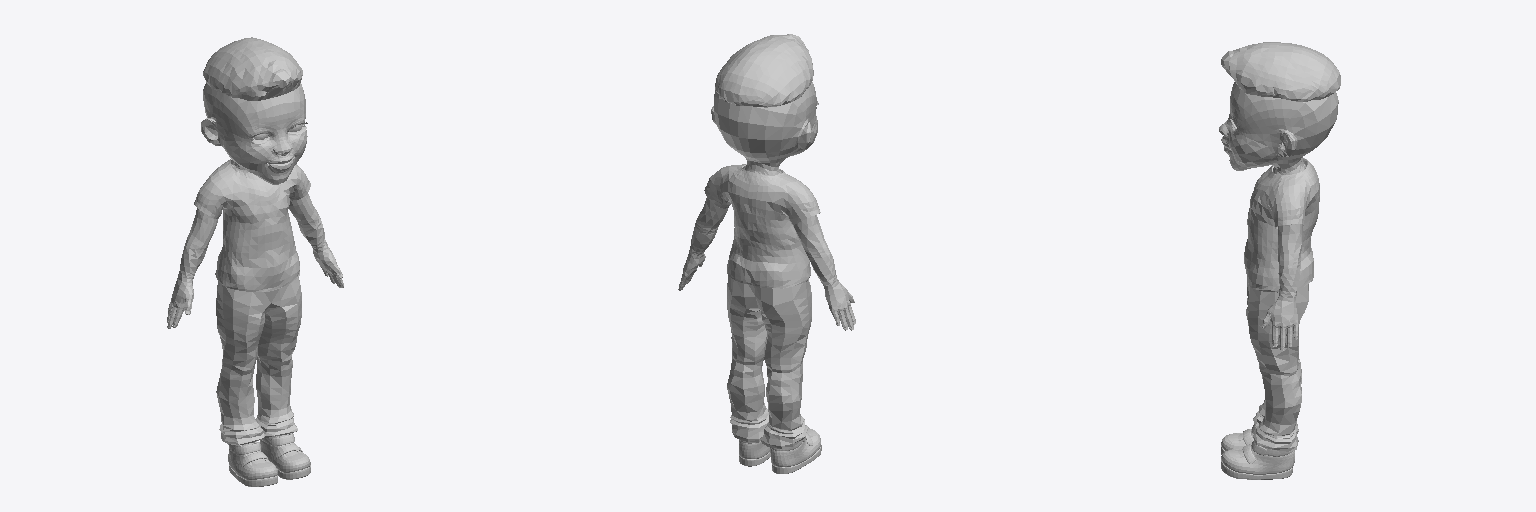
File: little_boy.obj
3 renders of one model, left to right at view 1: azimuth 30°, elevation 25°; view 2: azimuth 150°, elevation 25°; view 3: azimuth 270°, elevation 25°, orthographic.
Parts seen in each view (by area): view 1: little_by_1, little_by_1.002, little_by_1.001, Wolf3D_Hair; view 2: little_by_1.002, little_by_1, little_by_1.001, Wolf3D_Hair; view 3: little_by_1, little_by_1.001, little_by_1.002, Wolf3D_Hair.
Part boxes in pixels (left/top/right/bottom): little_by_1: left=167, top=83, right=343, bottom=486; little_by_1.002: left=216, top=277, right=301, bottom=444; little_by_1.001: left=194, top=159, right=310, bottom=291; Wolf3D_Hair: left=203, top=37, right=302, bottom=100; little_by_1.002: left=727, top=276, right=811, bottom=448; little_by_1: left=678, top=82, right=855, bottom=473; little_by_1.001: left=704, top=164, right=820, bottom=288; Wolf3D_Hair: left=715, top=34, right=813, bottom=107; little_by_1: left=1219, top=82, right=1338, bottom=479; little_by_1.001: left=1244, top=158, right=1319, bottom=292; little_by_1.002: left=1246, top=282, right=1308, bottom=451; Wolf3D_Hair: left=1221, top=42, right=1340, bottom=101.
Bounding box in the file's own units: 1.14 × 2.62 × 0.6948.